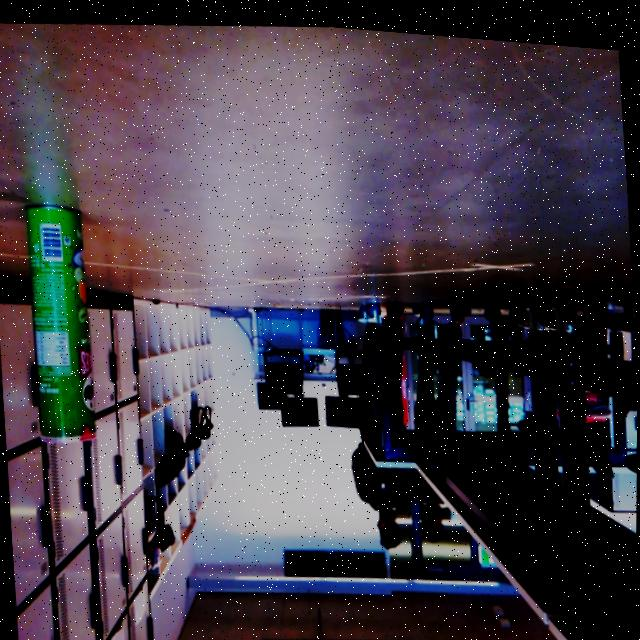greenpringles: (11, 178, 113, 459)
